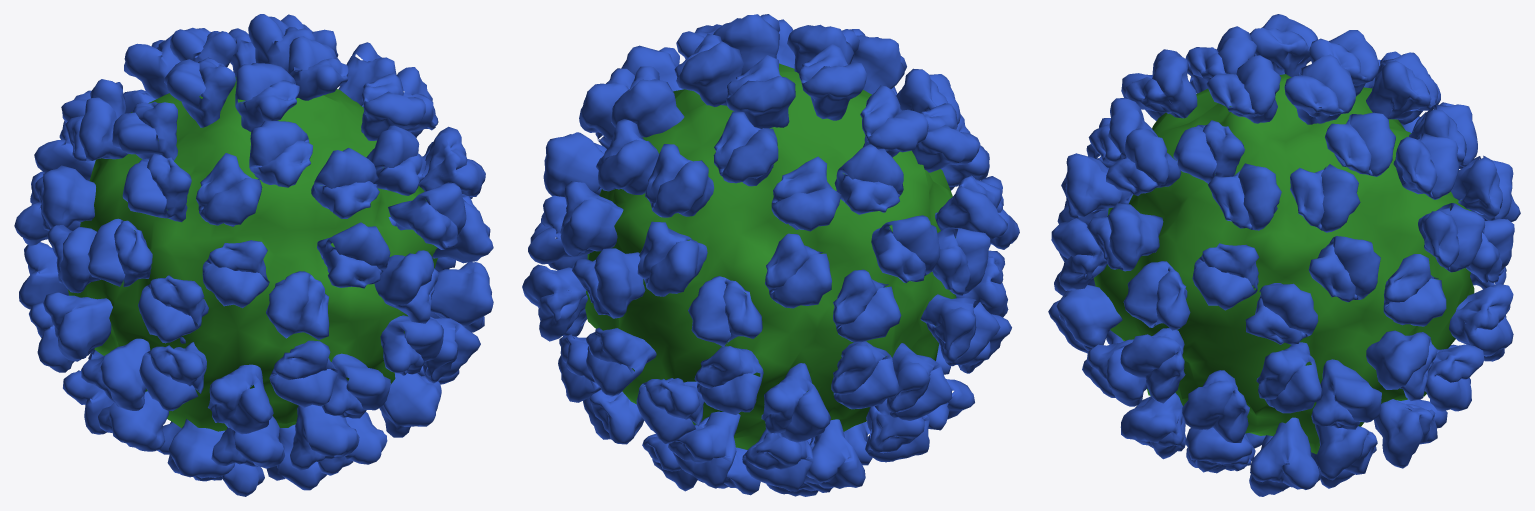
The picture shows the model from 3 angles, left to right: view 1: azimuth 30°, elevation 25°; view 2: azimuth 150°, elevation 25°; view 3: azimuth 270°, elevation 25°; orthographic projection. The views are drawn at different scales.
Bounding box in the file's own units: 2.3 × 2.3 × 2.27.
